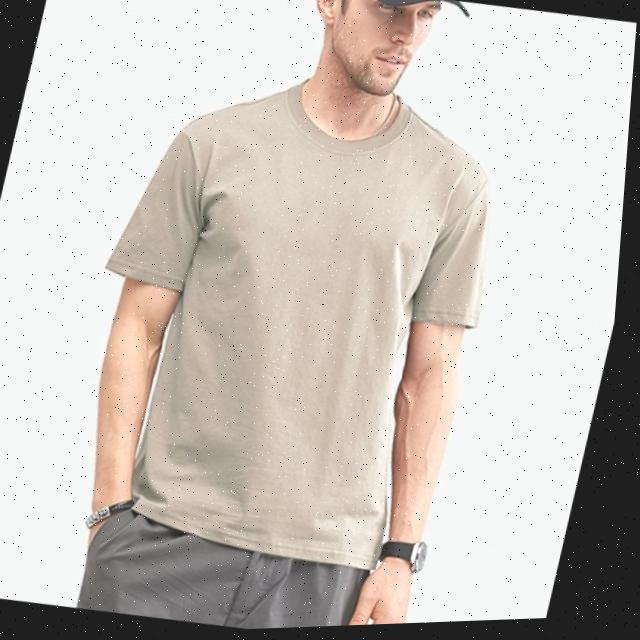Upper-Body: (111, 86, 490, 571)
